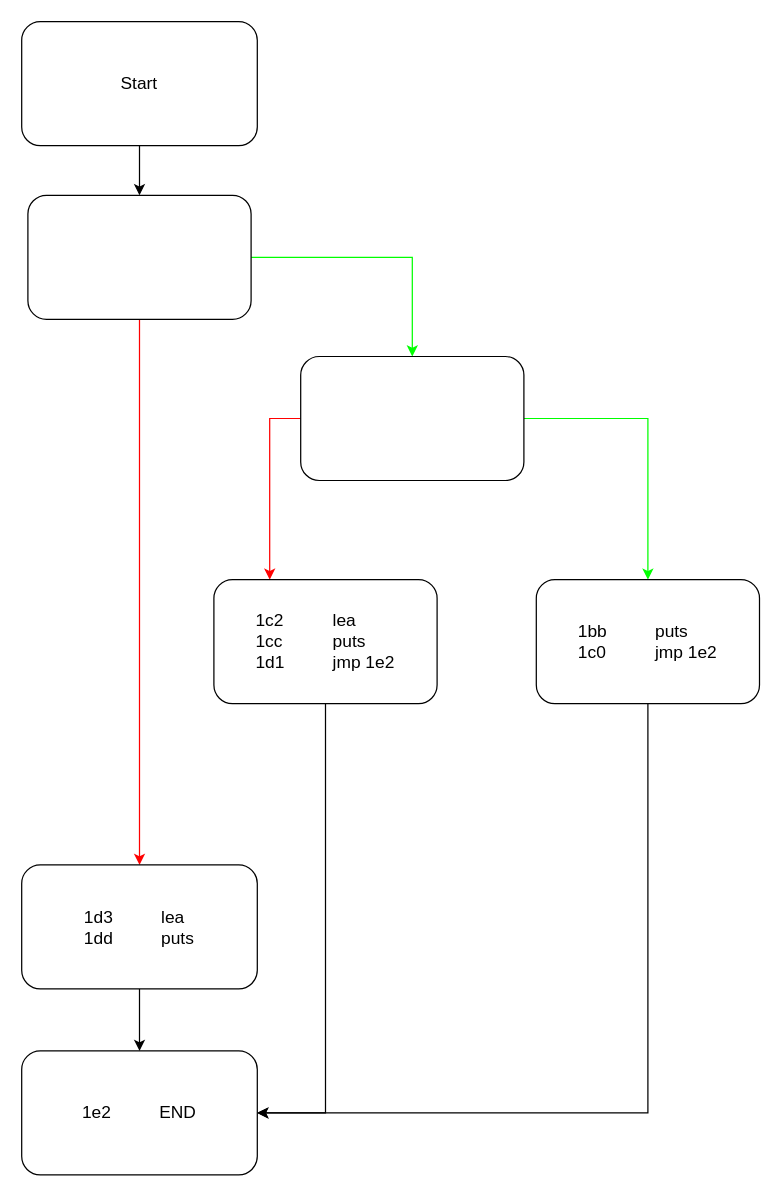
This 781x1197 diagram has some shape labels left out. The centre of each missing label's shape, as x and y in pixels:
"168 cmp 16c jne 1d3" belongs at (x=139, y=256).
"18b printf 1ad strcmp 1af jne 1c2" belongs at (x=411, y=417).
